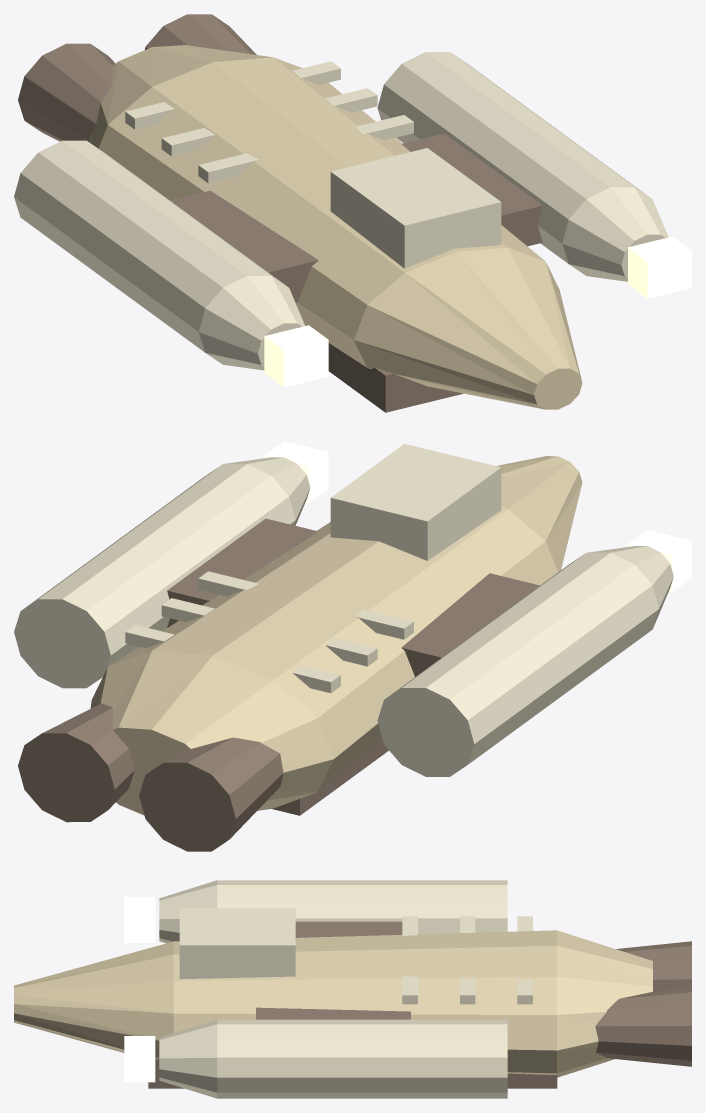
3 views of the same model, one above another, from view 1: azimuth 30°, elevation 25°; view 2: azimuth 150°, elevation 25°; view 3: azimuth 270°, elevation 25° (orthographic). The views are drawn at different scales.
Size of the model in its own units: 4.83 by 1.73 by 7.84.
